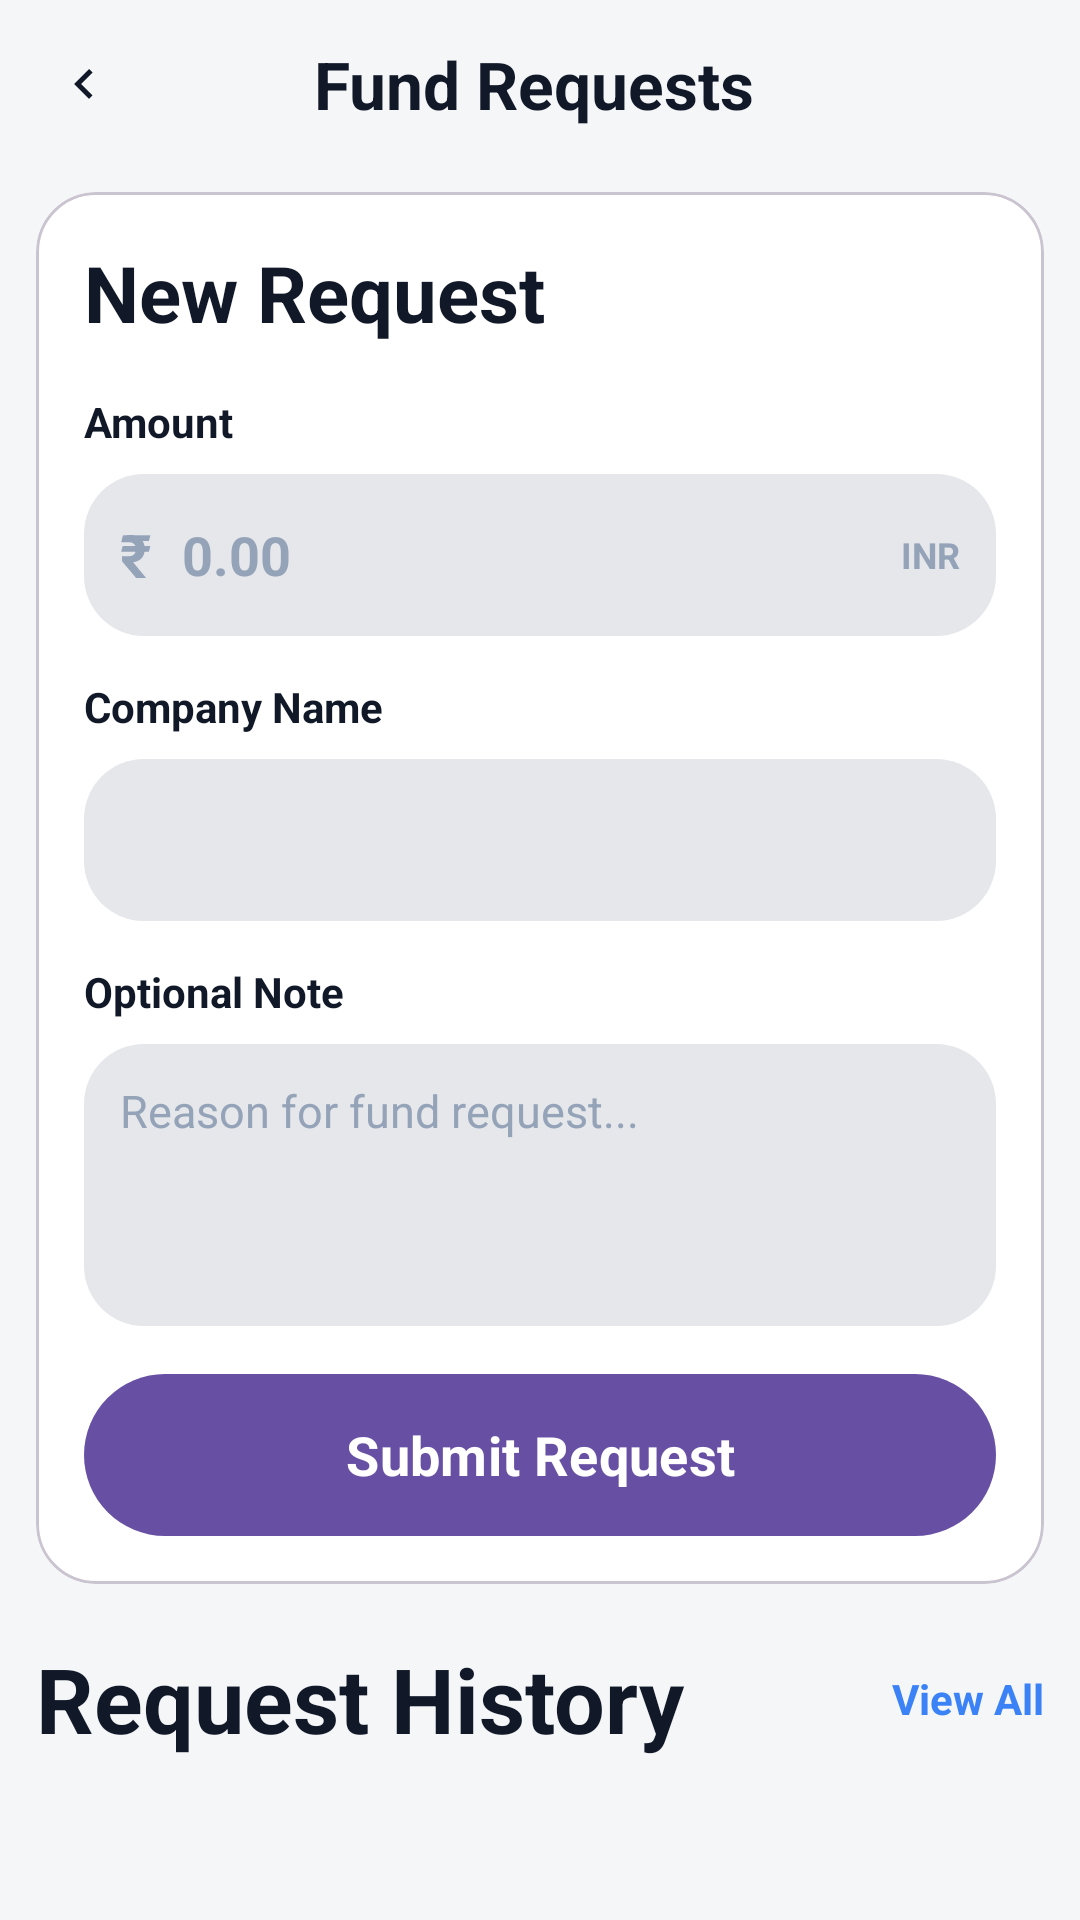

Where to tap for icons on this 1080 x 1920 app screen, as (x=x, y=y):
Back: (x=83, y=84)
